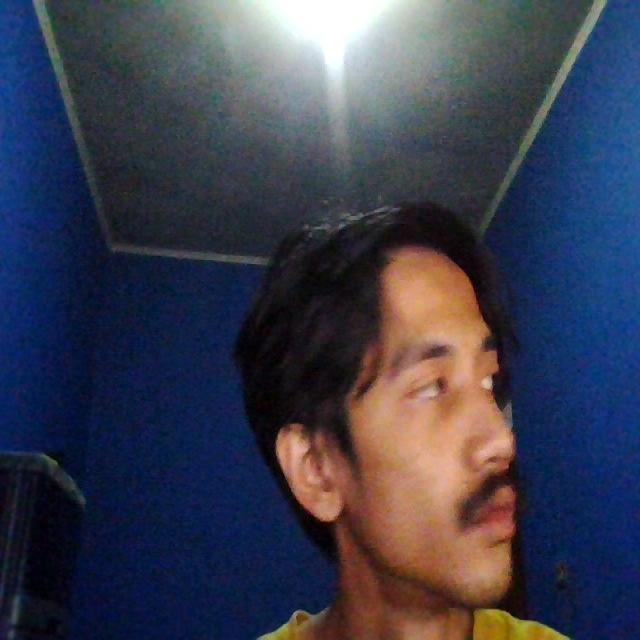melihat kekiri: (215, 193, 541, 612)
